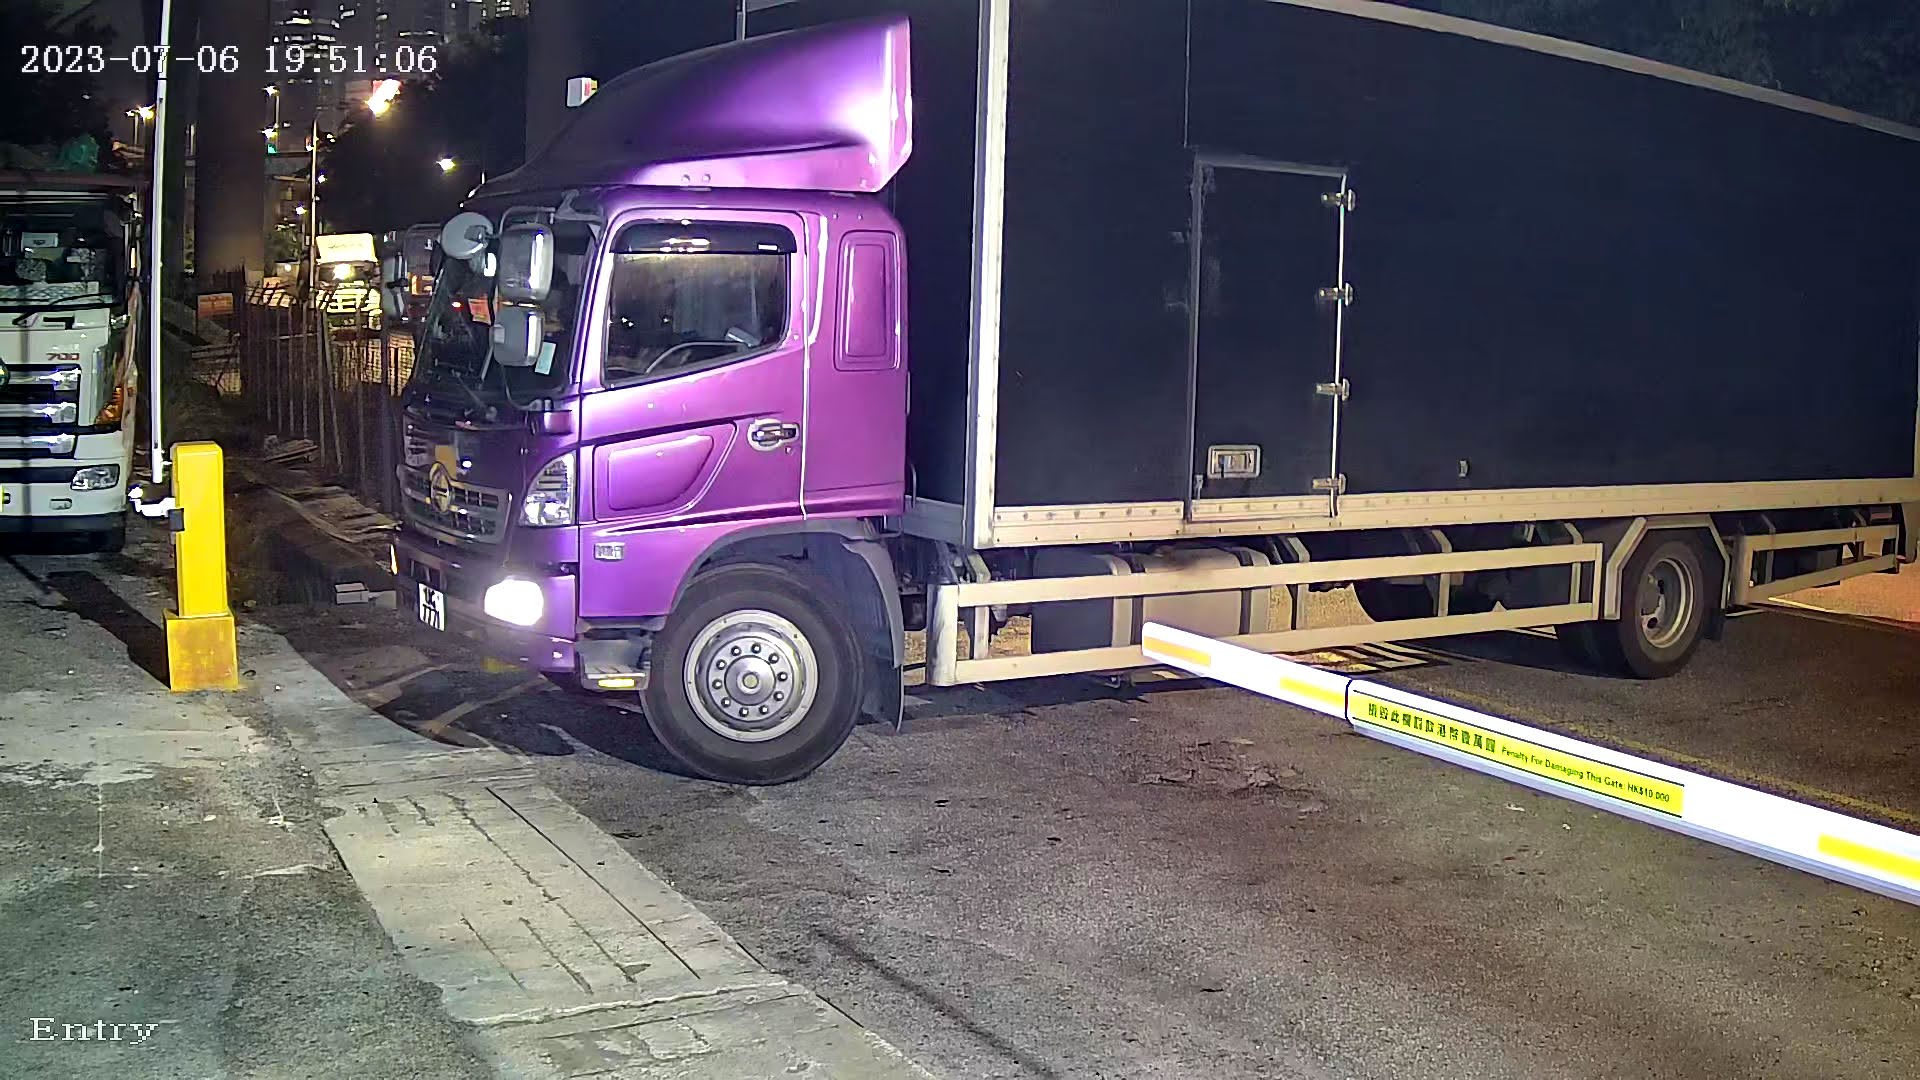truck: (352, 7, 1920, 807)
